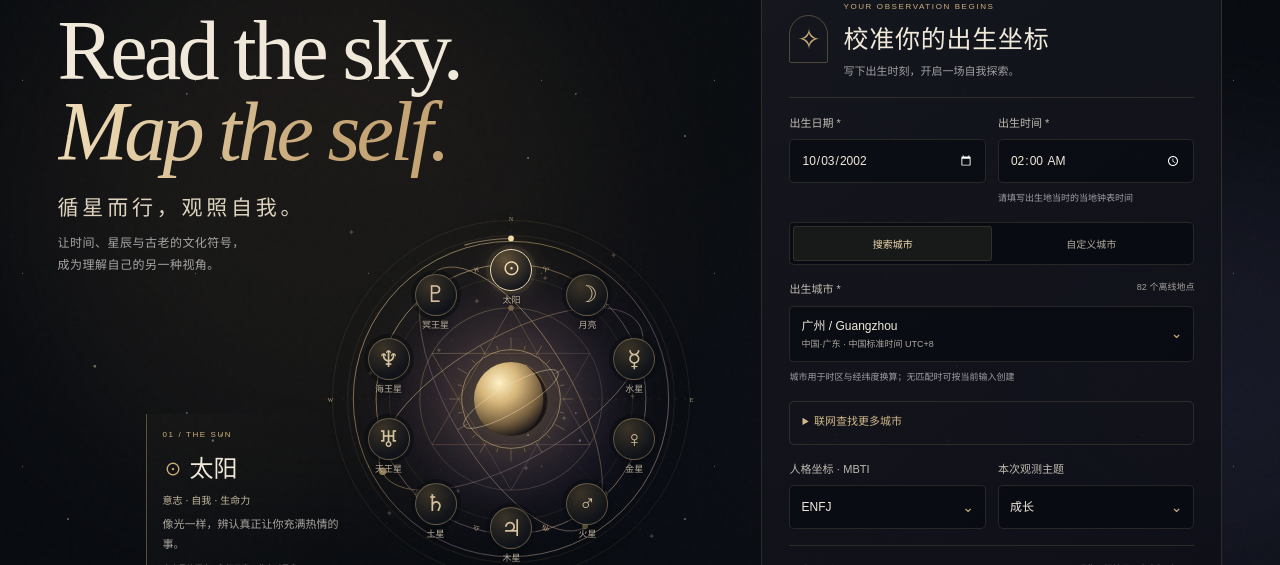
application flow › accepts a custom city and shows it in the deterministic report
Click the button "自定义城市" at {"x": 1091, "y": 244}, box [992, 226, 1190, 261]
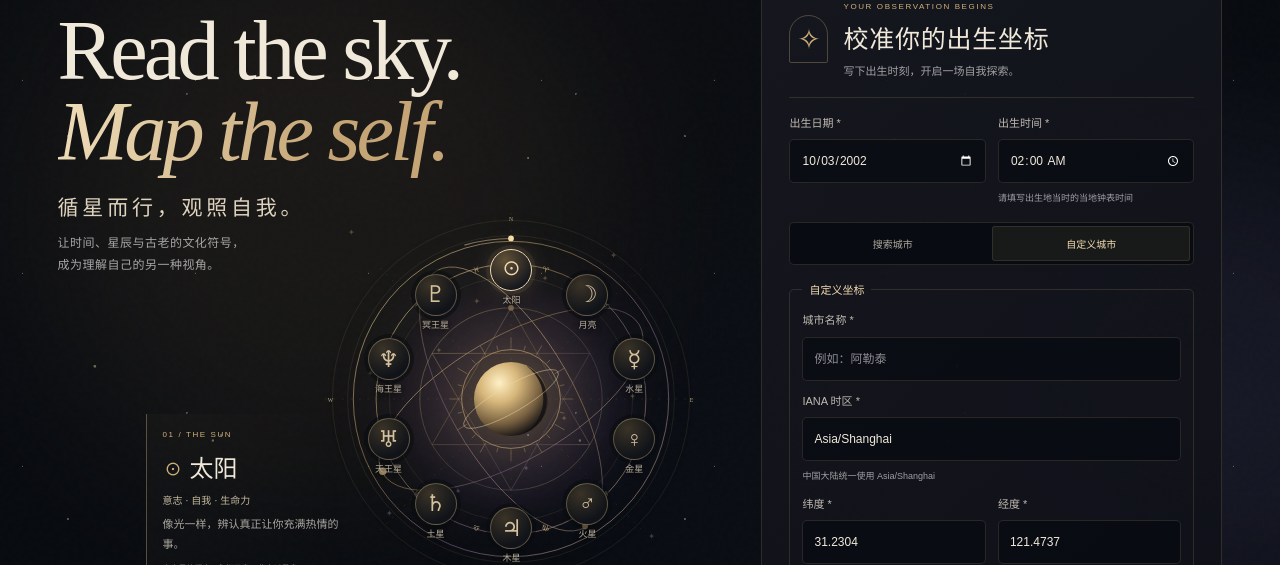
Type "测试城" into the field named "自定义城市名称" at {"x": 992, "y": 359}, box [802, 337, 1181, 381]
Replace the text in the field labelled "IANA 时区" with "Asia/Tokyo" at {"x": 992, "y": 439}, box [802, 417, 1181, 461]
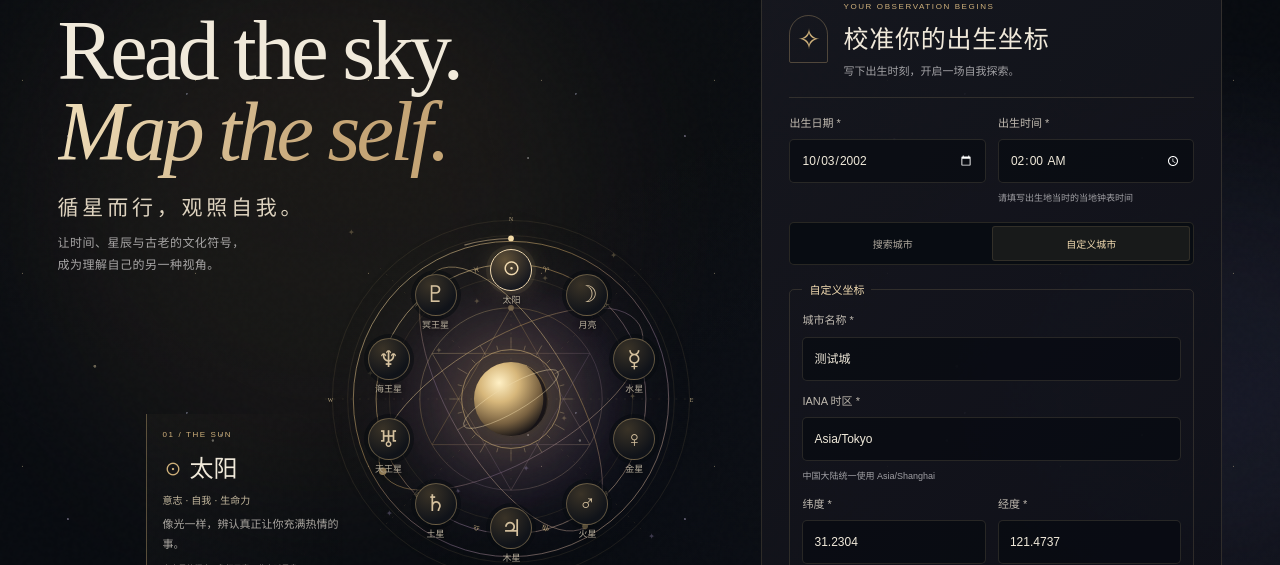
Replace the text in the number field labelled "纬度" with "35" at {"x": 894, "y": 542}, box [802, 520, 986, 564]
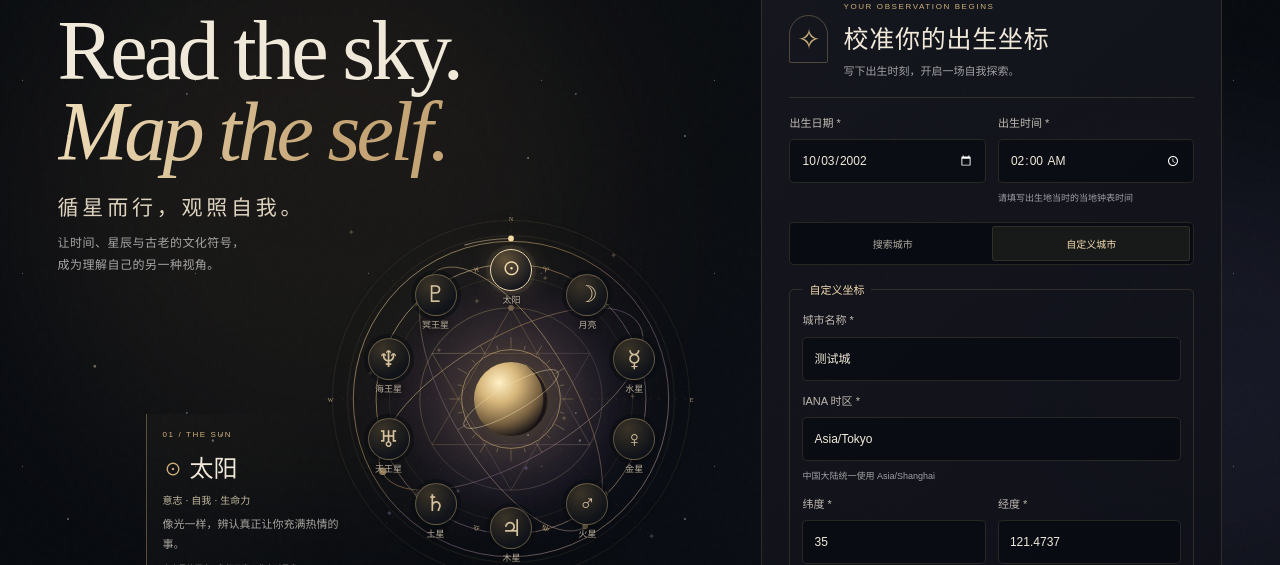
Replace the text in the number field labelled "经度" with "140" at {"x": 1090, "y": 542}, box [998, 520, 1181, 564]
(page scrolled)
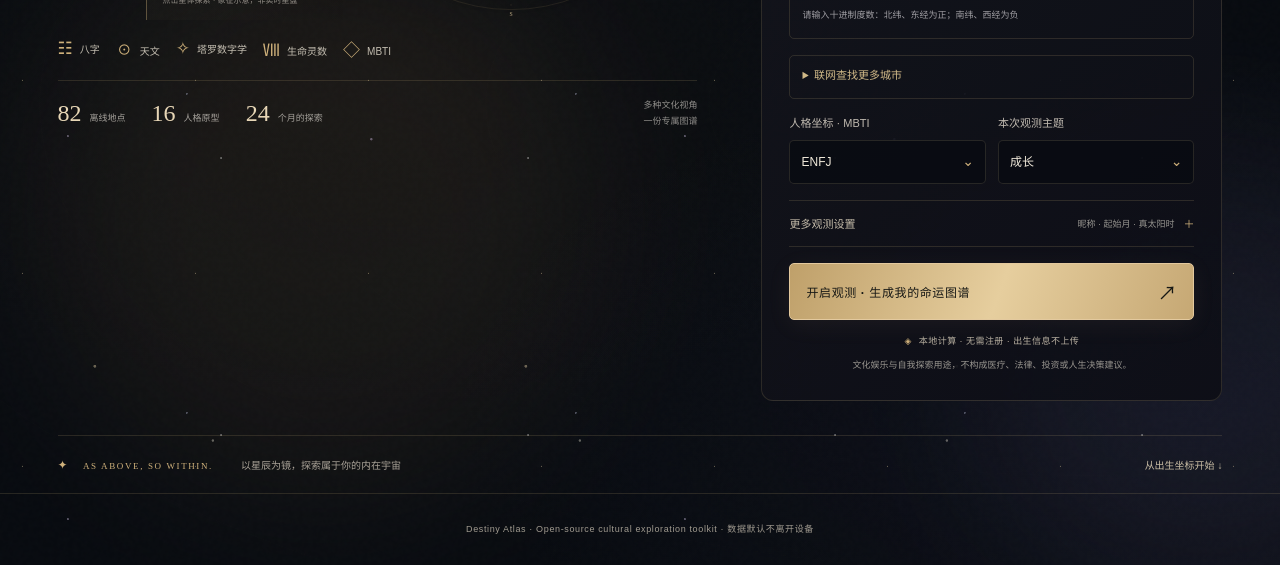
Click the button "开启观测 · 生成我的命运图谱 ↗" at {"x": 888, "y": 293}, box [790, 263, 1194, 320]
(page scrolled)
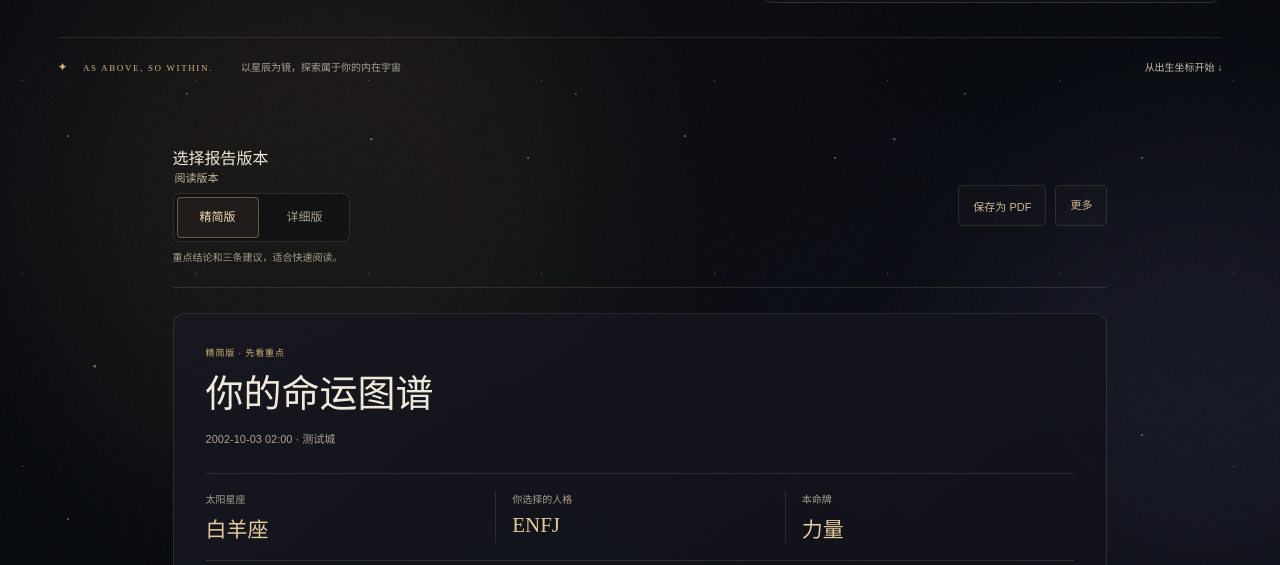
Click the radio button labelled "详细版" at {"x": 305, "y": 217}, box [287, 210, 323, 224]
(page scrolled)
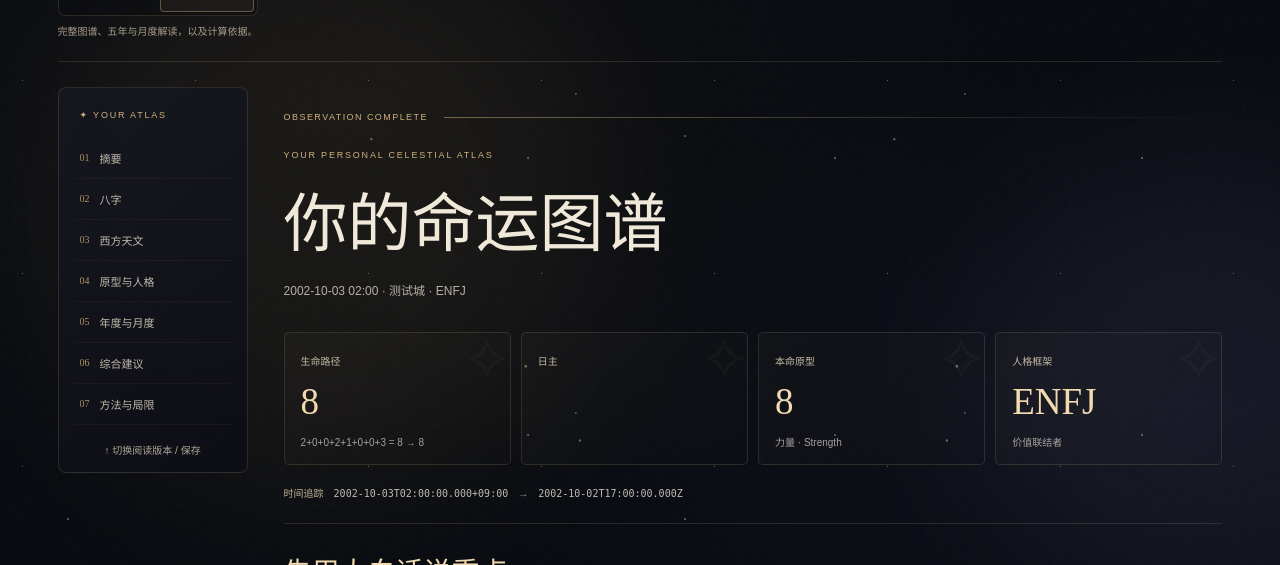
Now the text "2002-10-03 02:00 · 测试城 · ENFJ" is shown, box [284, 284, 466, 298]
Now the text "2002-10-02T17:00:00.000Z" is shown, box [538, 485, 683, 503]
